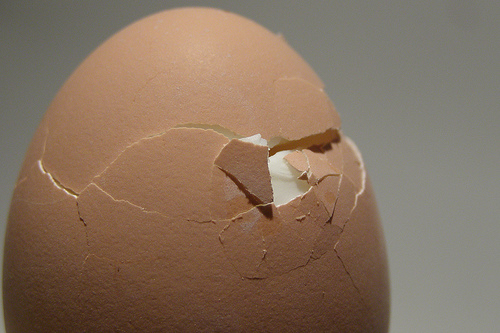egg: (3, 7, 390, 332)
